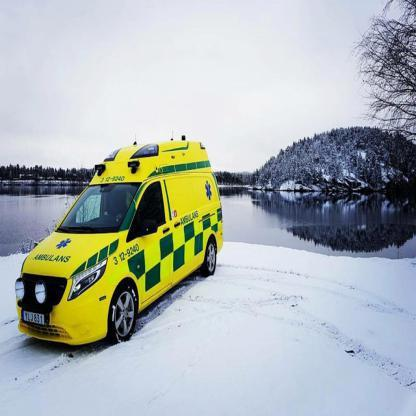Ambulance - v1 Ambulance last generate: (14, 134, 228, 357)
